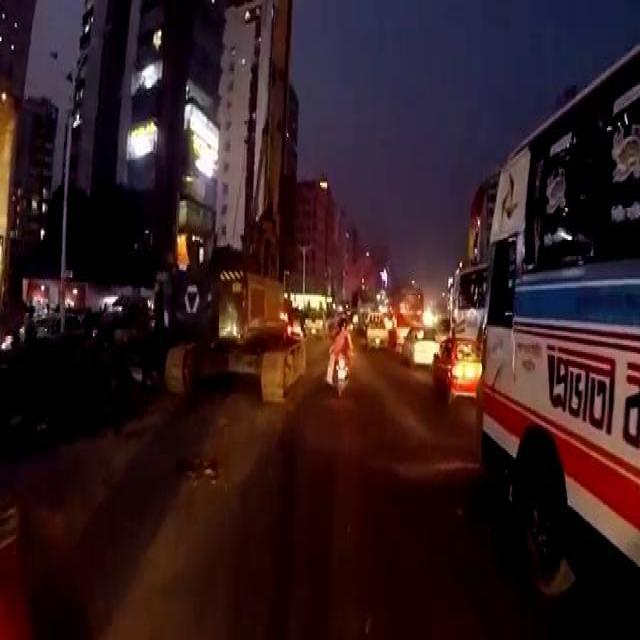10: (332, 348, 350, 396)
11: (364, 306, 388, 348), (302, 306, 326, 334)
5: (430, 334, 480, 398), (400, 321, 440, 365)
Truck: (475, 39, 639, 619), (448, 262, 490, 324), (392, 282, 423, 322)
